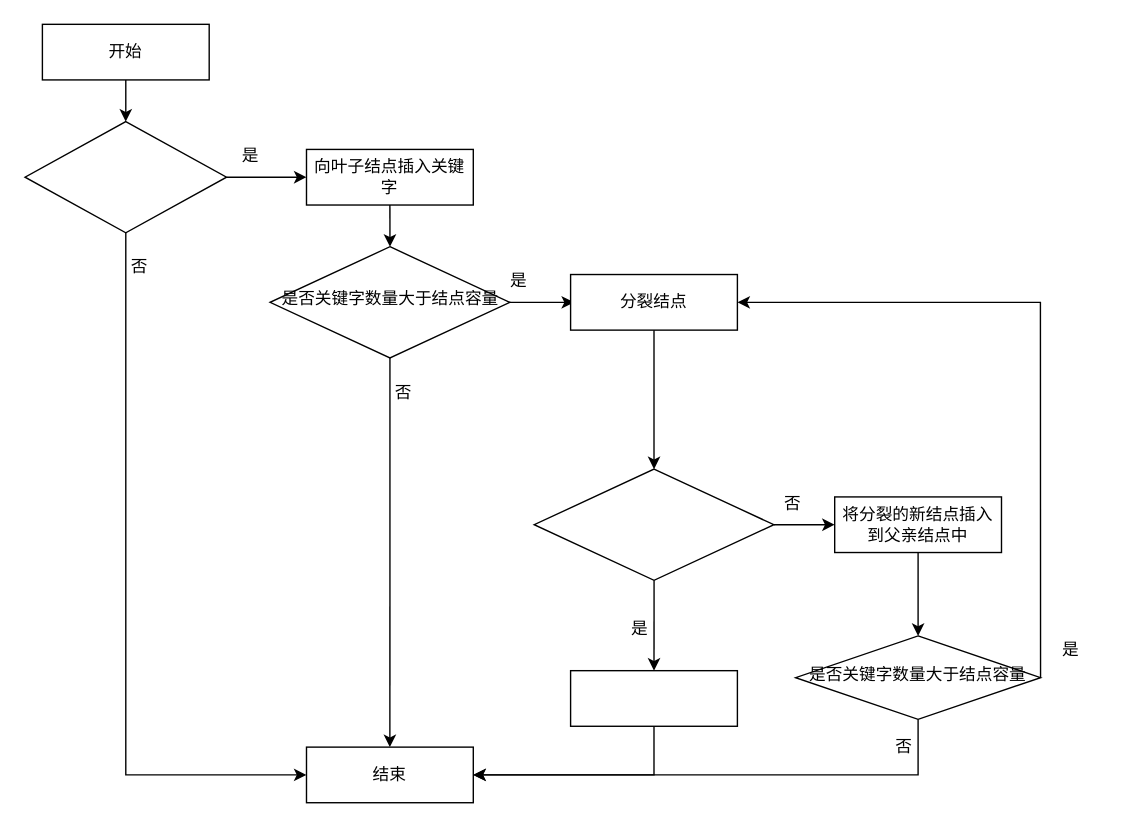
Image size: 1136x827. Some labels were removed from this diagram. The shapes that lost their labels are listed below. From the top down, each one's box as (x1, y1, x2, y2) in pixels, then its label:
(24, 120, 227, 233): 是否根结点是叶子结点
(533, 468, 774, 580): 是否结点的父亲结点为空
(569, 669, 737, 726): 新建根结点
